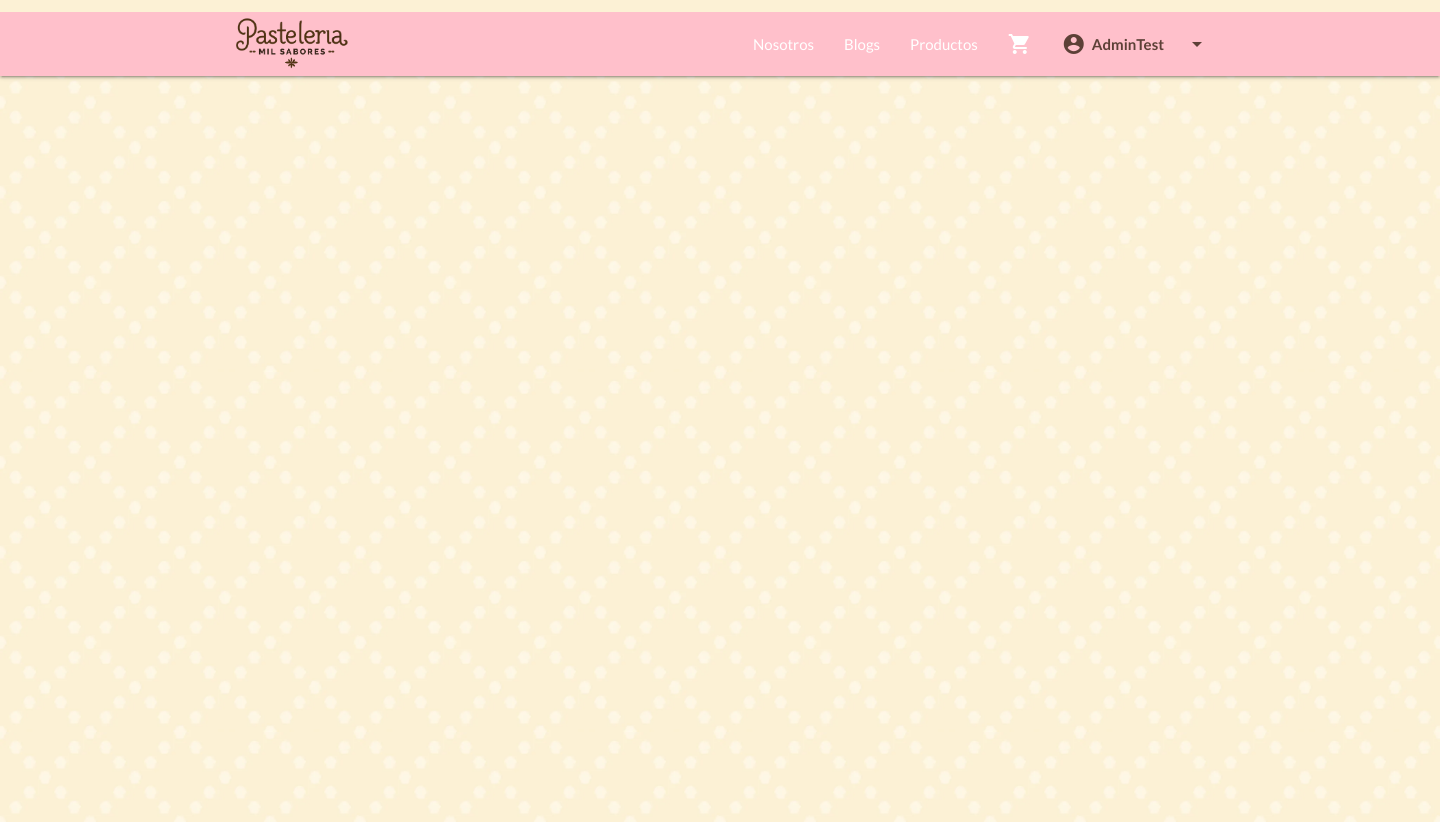
Test: Componente Navbar › muestra el nombre del usuario y la opción "Cerrar Sesión" con sesión activa
Click the text "AdminTest".
click(1128, 44)  # box [1092, 35, 1164, 53]
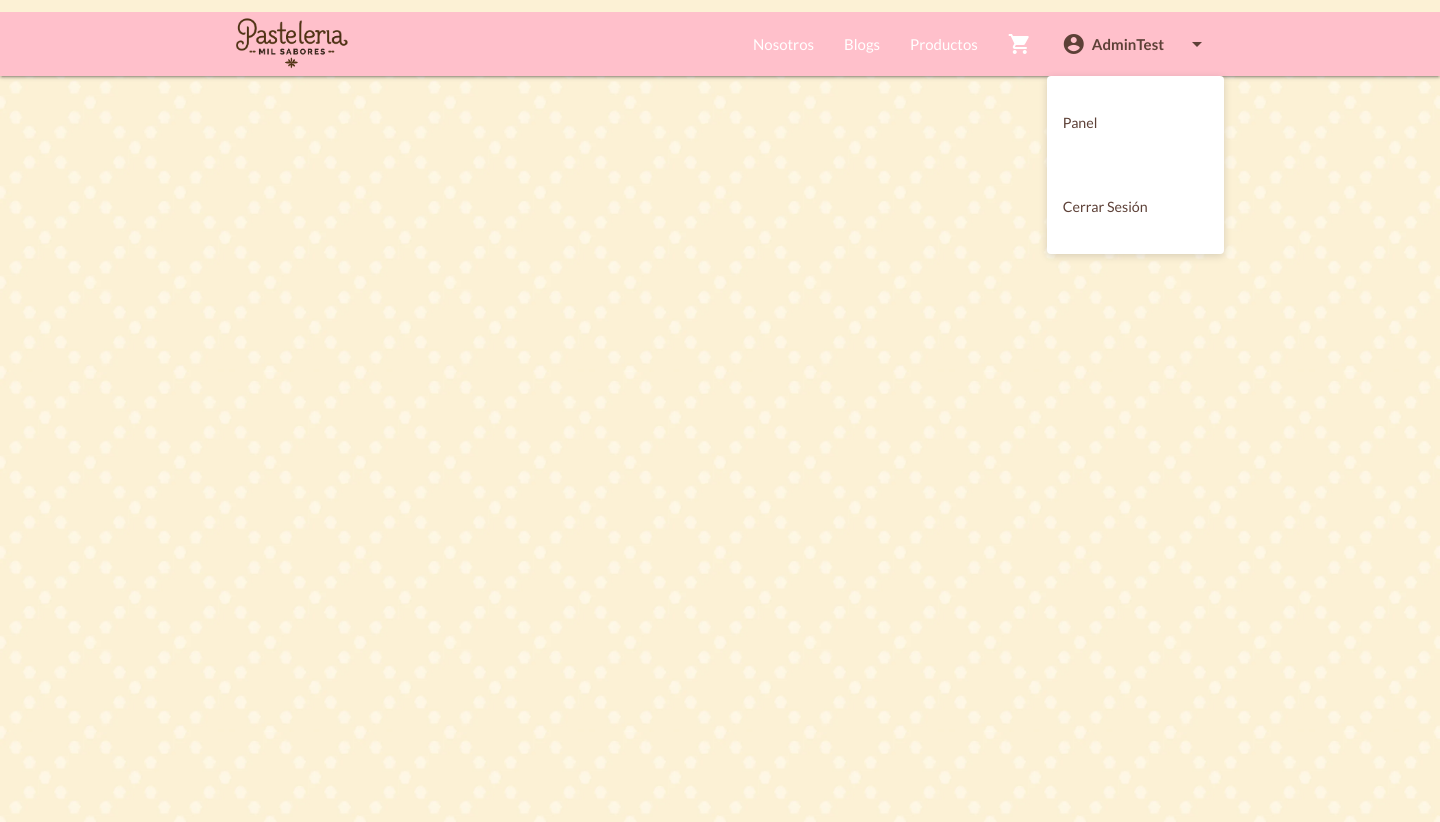
Expected: the link "Cerrar Sesión" is shown, [1063, 198, 1148, 215]
